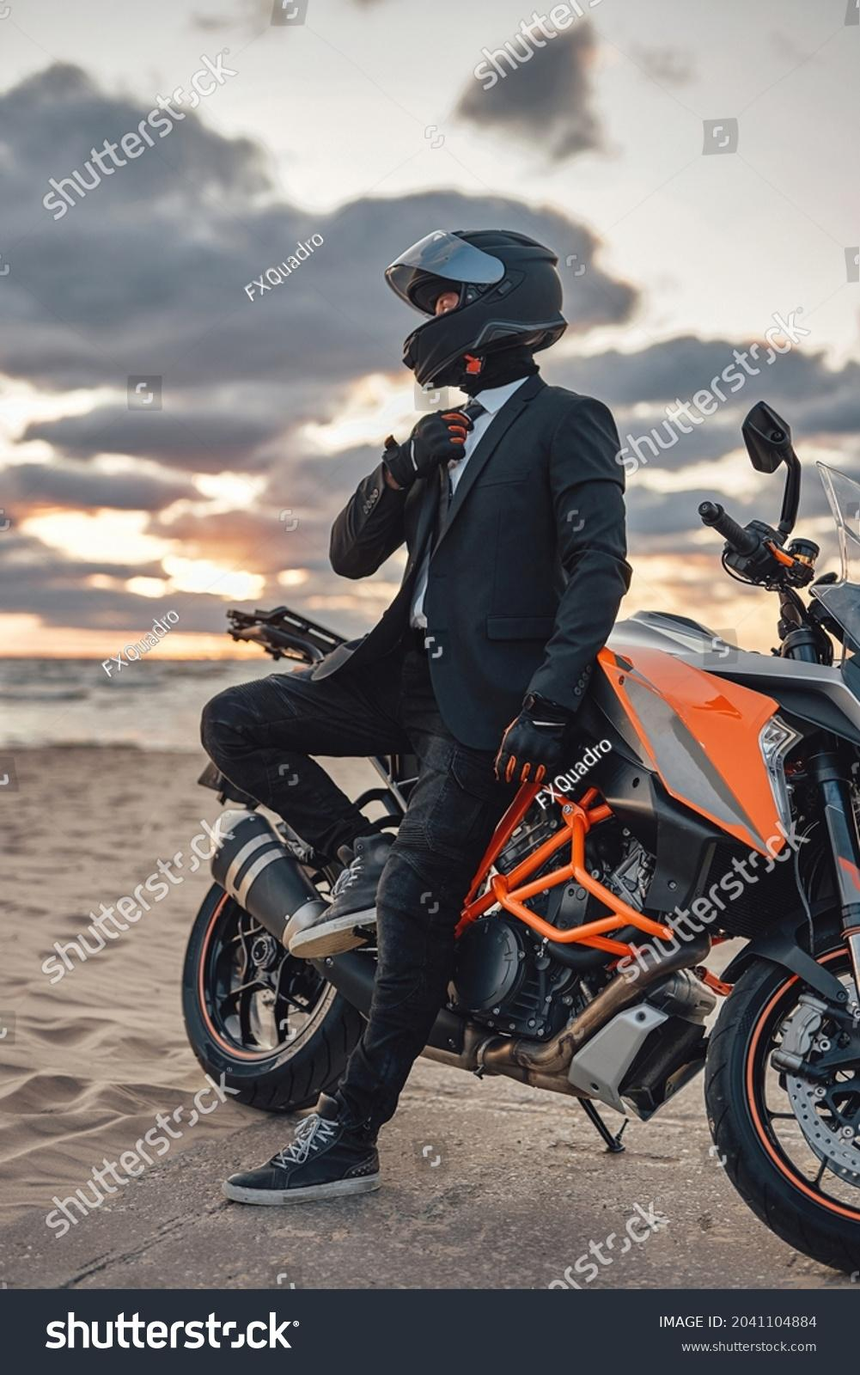Helmet: (385, 228, 566, 394)
